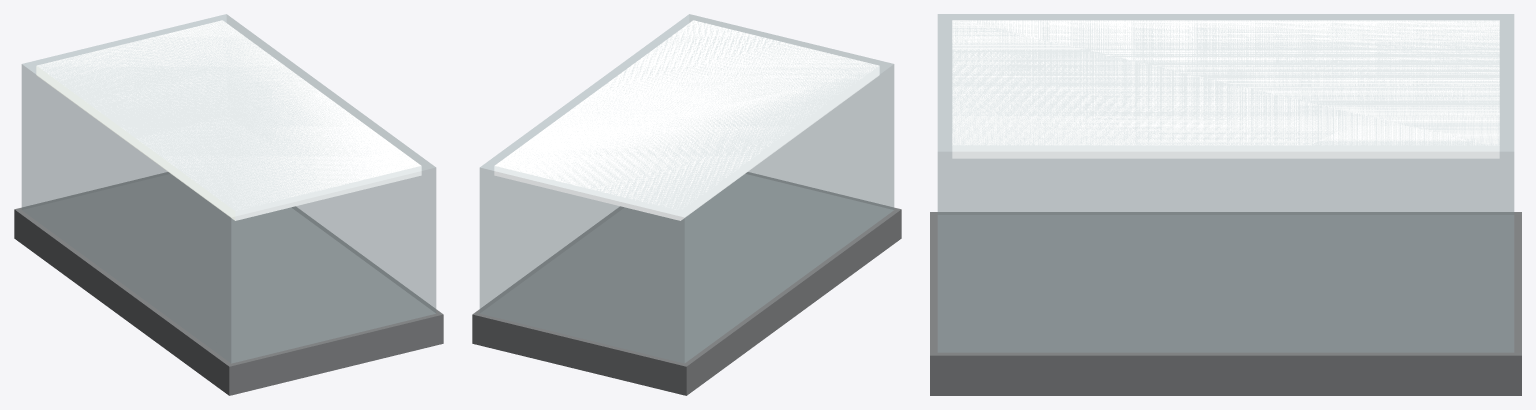
Rendered from estufa_salgados.glb.
The picture shows the model from 3 angles, left to right: view 1: azimuth 30°, elevation 25°; view 2: azimuth 150°, elevation 25°; view 3: azimuth 270°, elevation 25°; orthographic projection. The views are drawn at different scales.
Visible parts, largest first — view 1: Estufa_Vidro, Estufa_Base, Estufa_Luz; view 2: Estufa_Vidro, Estufa_Base, Estufa_Luz; view 3: Estufa_Vidro, Estufa_Base, Estufa_Luz.
Boxes of the visible parts, <box> form: Estufa_Vidro: <box>21,14,436,363</box>; Estufa_Base: <box>14,172,443,395</box>; Estufa_Luz: <box>36,20,421,220</box>; Estufa_Vidro: <box>479,14,894,363</box>; Estufa_Base: <box>472,172,901,395</box>; Estufa_Luz: <box>494,20,879,220</box>; Estufa_Vidro: <box>937,14,1514,352</box>; Estufa_Base: <box>930,212,1521,395</box>; Estufa_Luz: <box>952,20,1499,158</box>.
Bounding box in the file's own units: 0.46 × 0.36 × 0.8.
